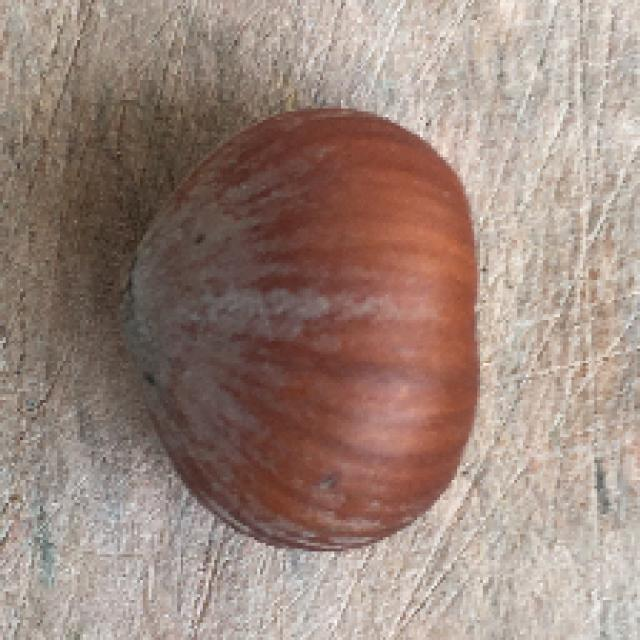qualityHazelnut: (110, 106, 479, 557)
